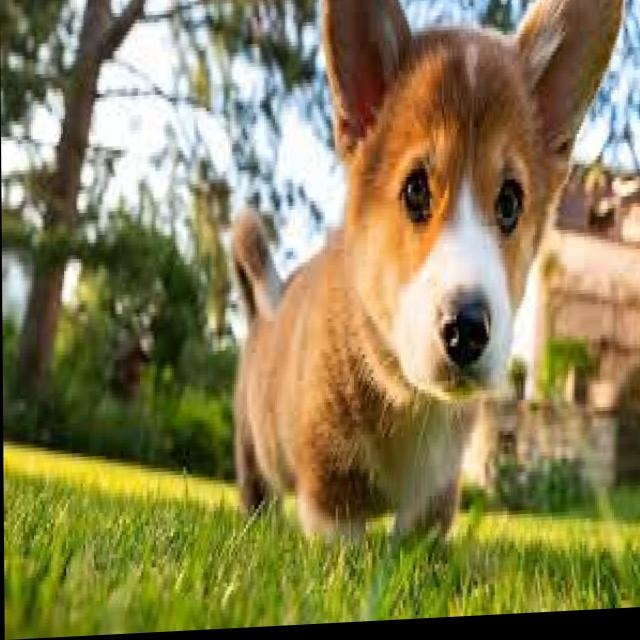CORGI: (203, 0, 626, 590)
